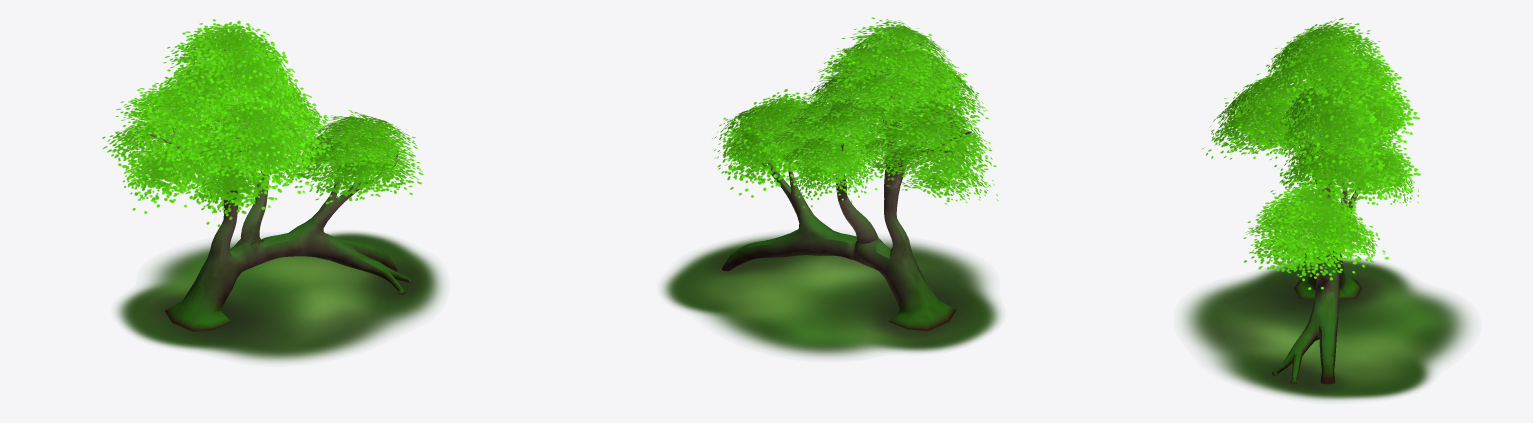
File: nimbus_willow_2_tree.glb
3 views of the same model, side by side, from view 1: azimuth 30°, elevation 25°; view 2: azimuth 150°, elevation 25°; view 3: azimuth 270°, elevation 25° (orthographic). The views are drawn at different scales.
Visible parts, largest first — view 1: Plane_191, Plane_307_4_0, Plane_308_8_0; view 2: Plane_191, Plane_307_4_0, Plane_308_8_0; view 3: Plane_191, Plane_307_4_0, Plane_308_8_0.
Part boxes in pixels (<box>): Plane_191: <box>102,19,423,227</box>; Plane_307_4_0: <box>116,231,442,361</box>; Plane_308_8_0: <box>150,49,412,331</box>; Plane_191: <box>712,17,998,208</box>; Plane_307_4_0: <box>662,233,1000,357</box>; Plane_308_8_0: <box>721,43,971,331</box>; Plane_191: <box>1201,18,1420,289</box>; Plane_307_4_0: <box>1182,258,1470,400</box>; Plane_308_8_0: <box>1262,55,1369,384</box>.
Size of the model in its own units: 5.13 by 4.12 by 5.13.
Materials: 3 (3 with a texture image).
